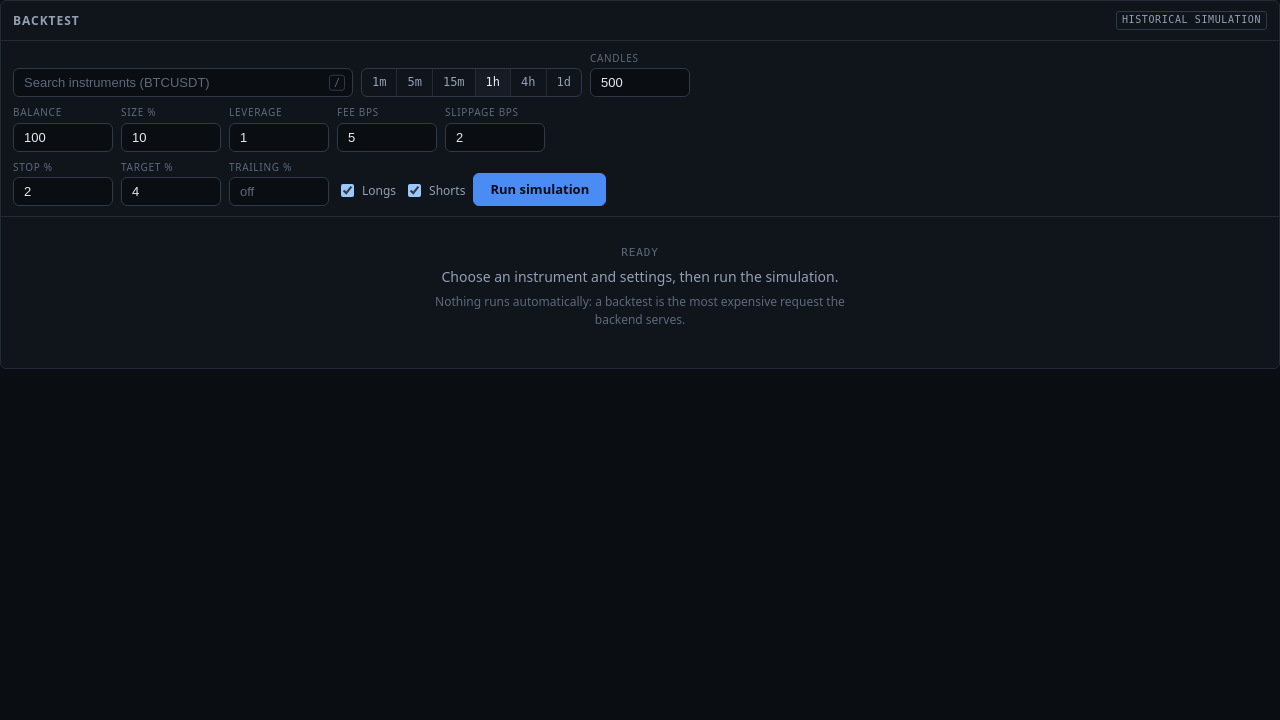
Test: BacktestPage › shows the headline metrics
Step 1. Click the button "Run simulation" → point(540, 190), box [473,173,606,206]
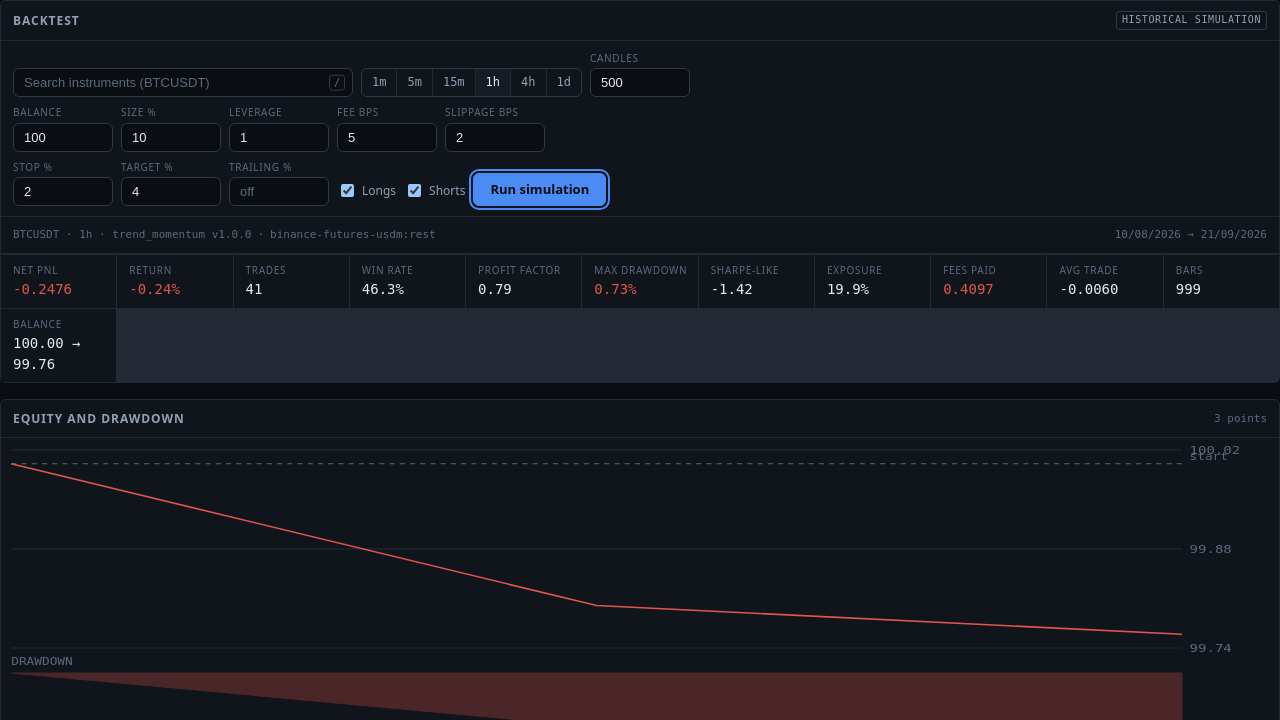
Expected: the text "-0.24%" is shown, [129,281,180,297]
Expected: the text "41" is shown, [246,281,262,297]
Expected: the text "46.3%" is shown, [362,281,404,297]
